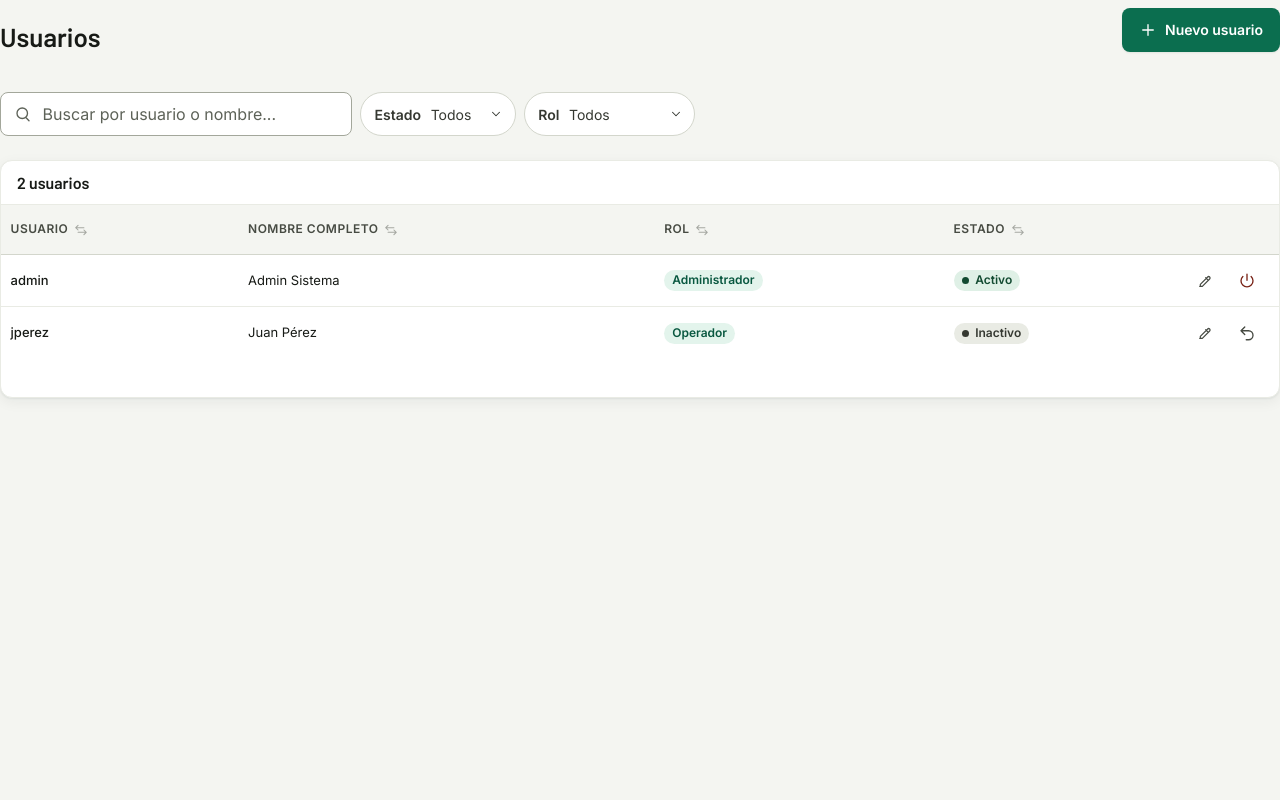
Test: UsuariosPage › abre el modal de creación al hacer click en 'Nuevo usuario'
Expected: the text "admin" is shown, [1,255,238,307]
Click the button "Nuevo usuario". click: point(1201, 30)
box: [1122,8,1279,52]
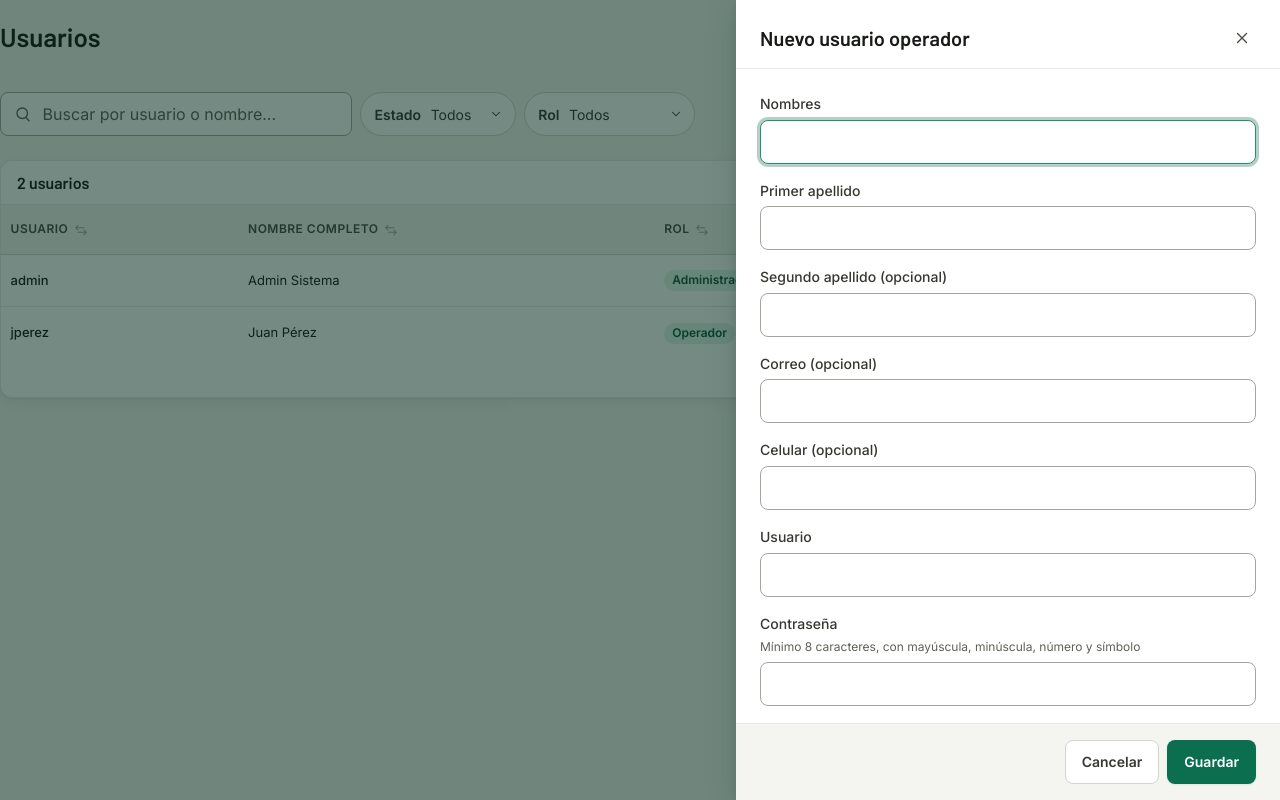
Expected: the dialog "Nuevo usuario operador" is shown, [736,0,1279,799]
